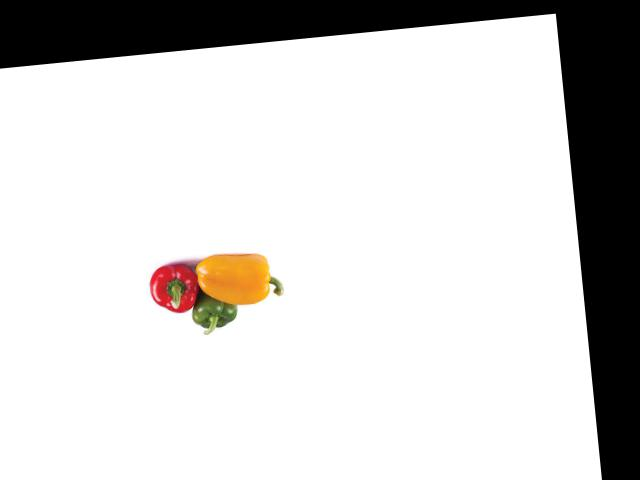bell_pepper: (185, 284, 243, 336)
